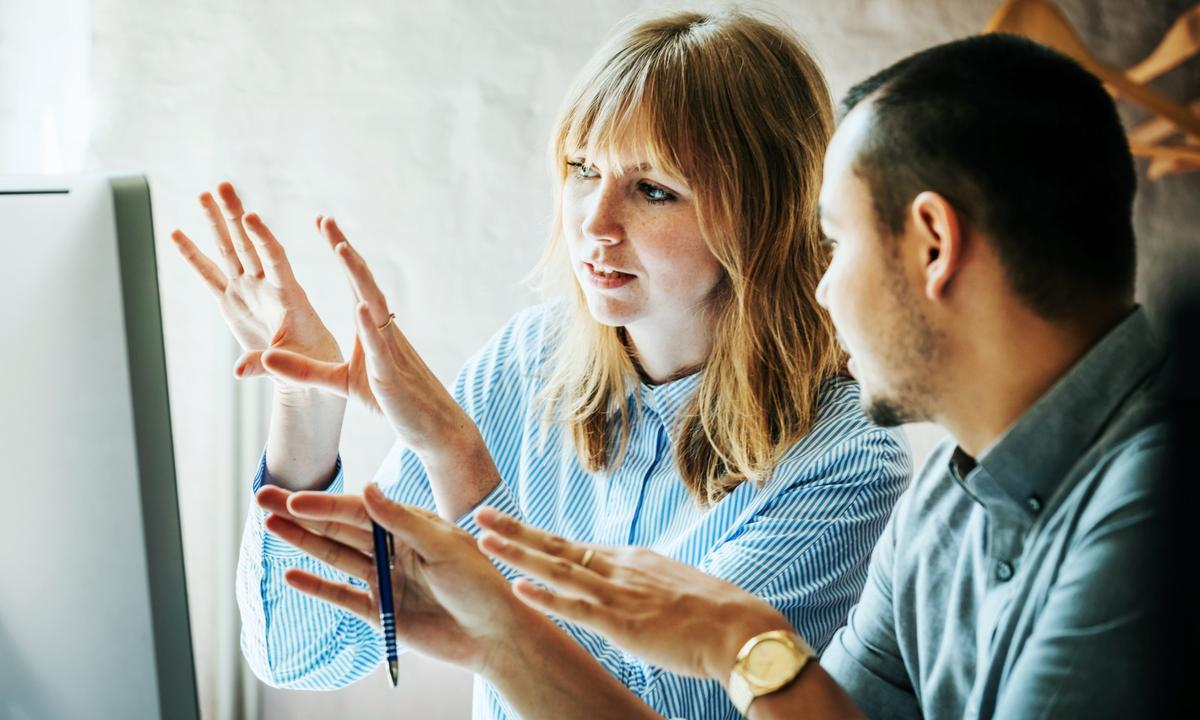without_mask: (815, 187, 919, 415), (571, 138, 706, 310)
